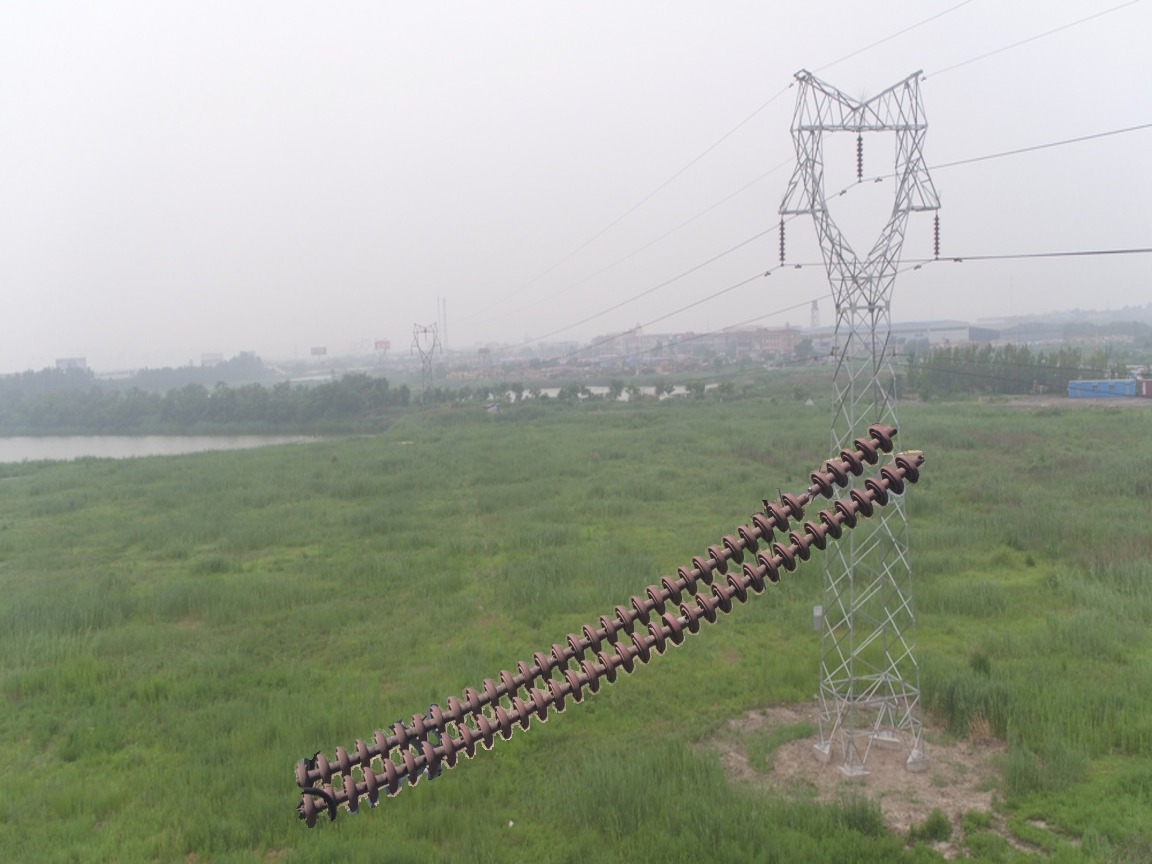defect: (776, 468, 835, 522)
